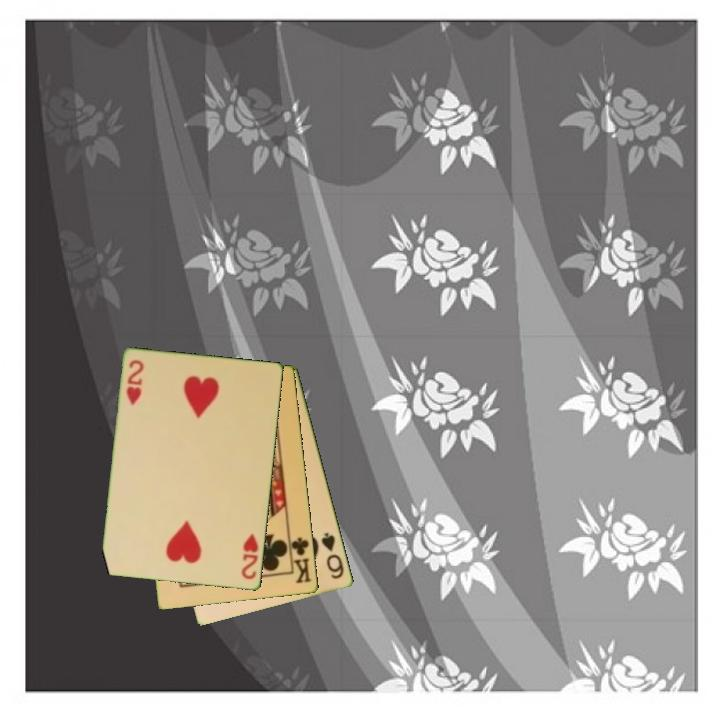2h: (238, 530, 262, 583), (123, 357, 147, 408)
6s: (318, 529, 347, 582)
Kc: (286, 533, 314, 586)
